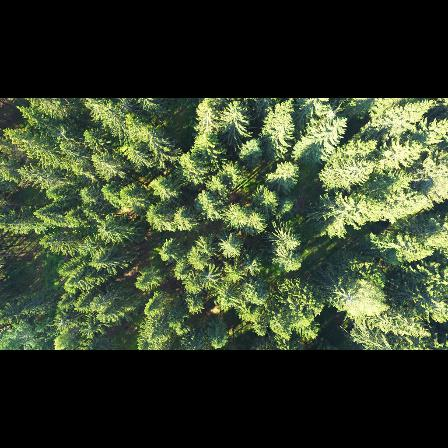Sick: (201, 266, 220, 288)
